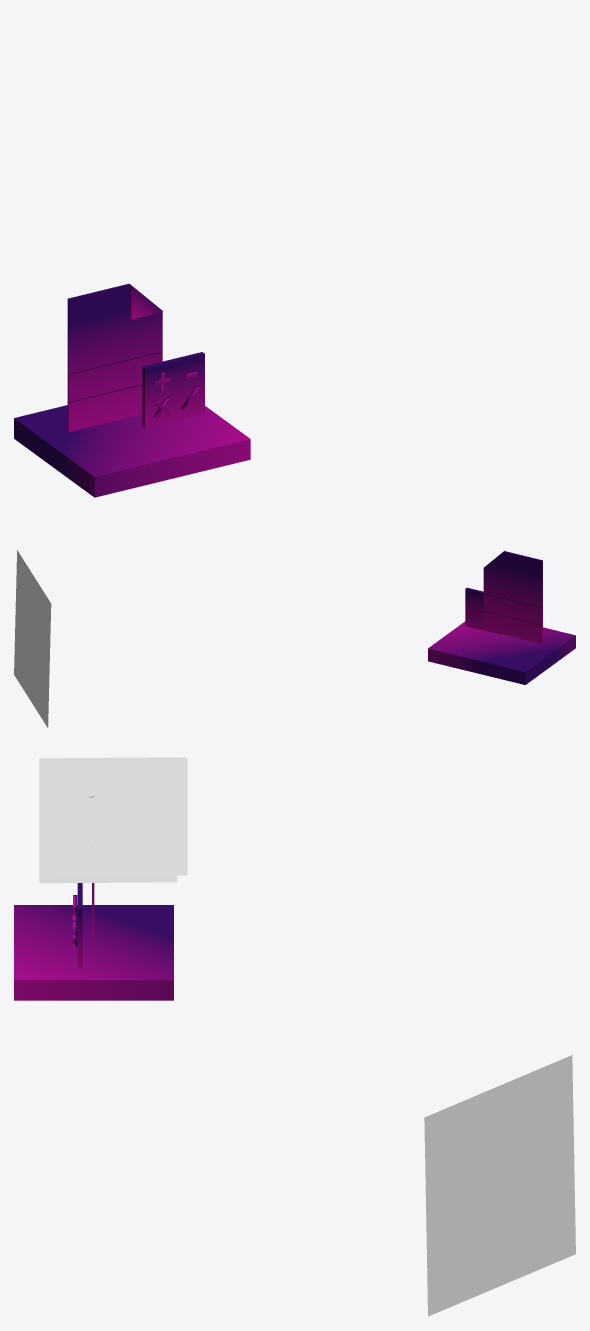
The model's file is 5_EXCEL_CALCULATOR.glb.
3 views of the same model, one above another, from view 1: azimuth 30°, elevation 25°; view 2: azimuth 150°, elevation 25°; view 3: azimuth 270°, elevation 25° (orthographic). The views are drawn at different scales.
Visible parts, largest first — view 1: Cubo.001, Cubo.005, Cubo.010, Cubo.006; view 2: Cubo.001, Cubo.005, Plano.003, Cubo.010; view 3: Plano.003, Cubo.001, Plano, Plano.004.
Part boxes in pixels (x1=…): Cubo.001: x1=14, y1=405, x2=250, y2=497; Cubo.005: x1=67, y1=283, x2=162, y2=431; Cubo.010: x1=142, y1=352, x2=204, y2=427; Cubo.006: x1=130, y1=285, x2=162, y2=319; Cubo.001: x1=428, y1=621, x2=575, y2=684; Cubo.005: x1=483, y1=551, x2=542, y2=643; Plano.003: x1=14, y1=550, x2=51, y2=727; Cubo.010: x1=465, y1=587, x2=503, y2=635; Plano.003: x1=424, y1=1055, x2=575, y2=1316; Cubo.001: x1=14, y1=905, x2=173, y2=1000; Plano: x1=56, y1=757, x2=187, y2=876; Plano.004: x1=39, y1=757, x2=177, y2=883.
Bounding box in the file's own units: 7.91 × 2.76 × 5.62.
8 materials, 8 textured.
